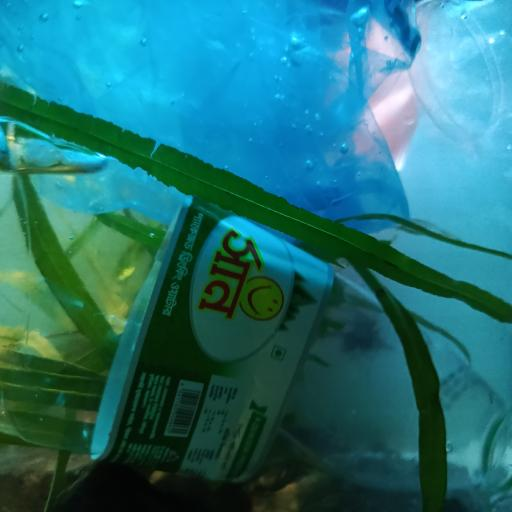mask: (340, 0, 428, 174)
plastic_bag: (2, 0, 422, 263)
plastic_bottle: (0, 114, 512, 512)
plastic_cup: (413, 0, 512, 143)
